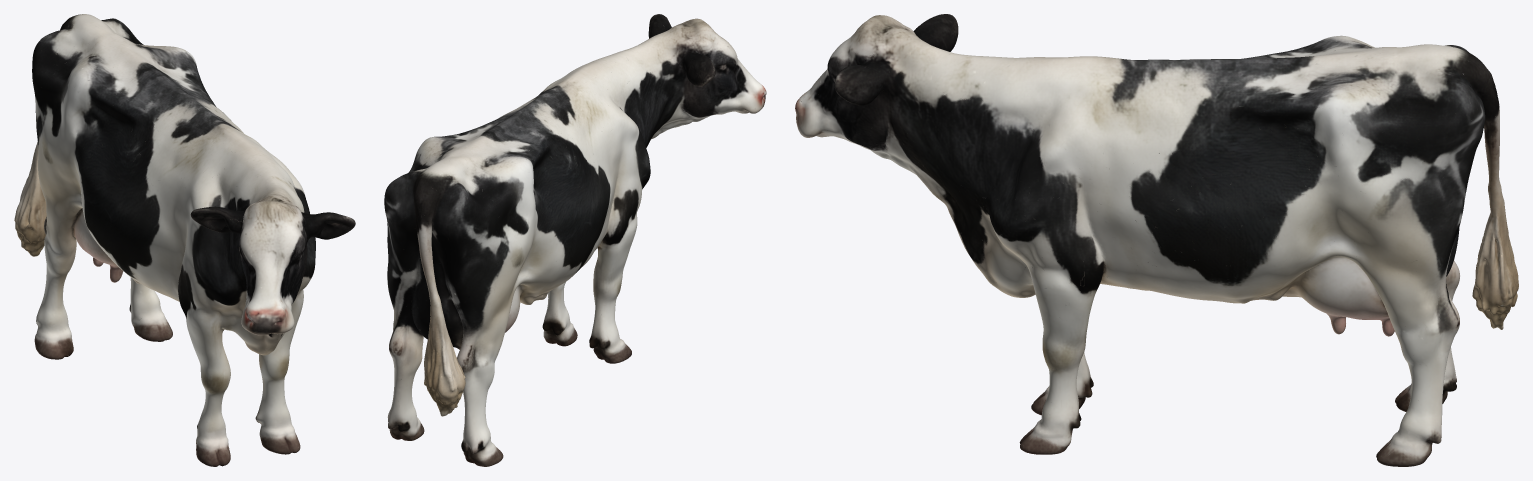
Rendered from vaca.glb.
3 views of the same model, side by side, from view 1: azimuth 30°, elevation 25°; view 2: azimuth 150°, elevation 25°; view 3: azimuth 270°, elevation 25° (orthographic). The views are drawn at different scales.
Parts seen in each view (by area): view 1: world; view 2: world; view 3: world.
Boxes of the visible parts, x1=… form: world: x1=14, y1=14, x2=355, y2=466; world: x1=384, y1=14, x2=766, y2=466; world: x1=795, y1=14, x2=1518, y2=466.
Bounding box in the file's own units: 0.3368 × 0.5833 × 1.
1 material, 1 textured.
